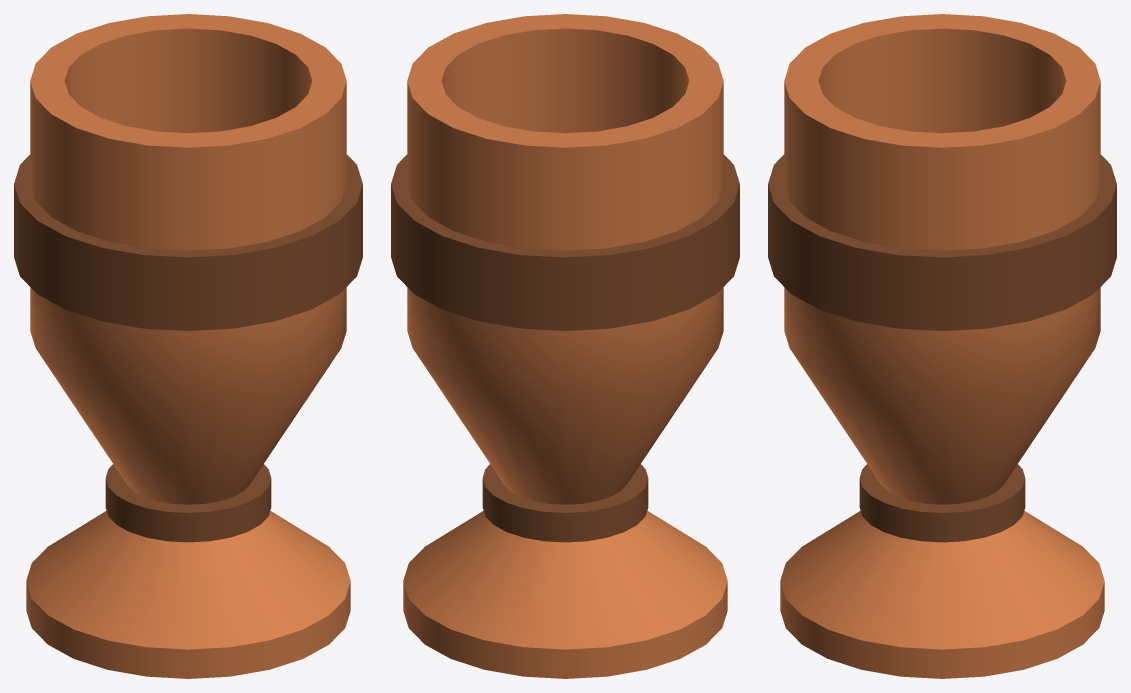
File: kwanzaaKikombe.fbx
The picture shows the model from 3 angles, left to right: view 1: azimuth 30°, elevation 25°; view 2: azimuth 150°, elevation 25°; view 3: azimuth 270°, elevation 25°; orthographic projection.
Visible parts, largest first — view 1: kwanzaaKikombe; view 2: kwanzaaKikombe; view 3: kwanzaaKikombe.
Part boxes in pixels (x1,y1,x2,y2): kwanzaaKikombe: [14, 14, 362, 678]; kwanzaaKikombe: [391, 14, 739, 678]; kwanzaaKikombe: [768, 14, 1116, 678].
Size of the model in its own units: 1.08 by 1.8 by 1.08.
